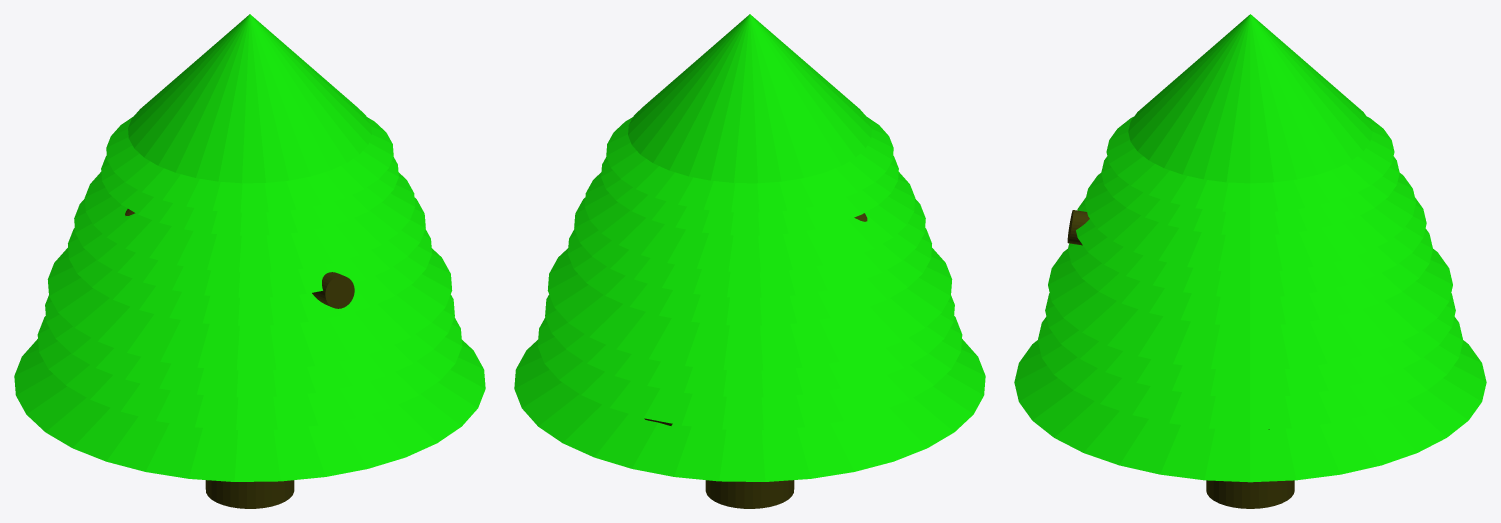
The model's file is tree.glb.
The picture shows the model from 3 angles, left to right: view 1: azimuth 30°, elevation 25°; view 2: azimuth 150°, elevation 25°; view 3: azimuth 270°, elevation 25°; orthographic projection.
Visible parts, largest first — view 1: Cone.009, Cone, Cone.006, Cone.008, Cone.003, Cone.007, Cone.005, Cone.001, Cone.004, Cone.002, Cylinder, Cylinder.001; view 2: Cone.009, Cone, Cone.006, Cone.008, Cone.003, Cone.007, Cone.005, Cone.001, Cone.004, Cone.002, Cylinder; view 3: Cone.009, Cone, Cone.006, Cone.008, Cone.003, Cone.007, Cone.005, Cone.001, Cone.004, Cone.002, Cylinder.
Part boxes in pixels (x1,y1,x2,y2): Cone.009: (14, 339, 485, 481); Cone: (128, 14, 371, 183); Cone.006: (47, 248, 452, 370); Cone.008: (37, 316, 462, 429); Cone.003: (84, 172, 415, 272); Cone.007: (45, 294, 454, 397); Cone.005: (68, 228, 431, 325); Cone.001: (106, 116, 393, 212); Cone.004: (74, 198, 425, 297); Cone.002: (101, 155, 398, 235); Cylinder: (205, 480, 294, 508); Cylinder.001: (312, 272, 354, 308); Cone.009: (514, 339, 985, 481); Cone: (628, 14, 871, 183); Cone.006: (547, 248, 952, 370); Cone.008: (537, 316, 962, 429); Cone.003: (584, 172, 915, 272); Cone.007: (545, 294, 954, 397); Cone.005: (568, 228, 931, 325); Cone.001: (606, 116, 893, 212); Cone.004: (574, 198, 925, 297); Cone.002: (601, 155, 898, 235); Cylinder: (705, 480, 794, 508); Cone.009: (1014, 340, 1486, 482); Cone: (1128, 14, 1372, 183); Cone.006: (1048, 249, 1452, 370); Cone.008: (1037, 316, 1463, 430); Cone.003: (1085, 173, 1415, 272); Cone.007: (1045, 293, 1455, 397); Cone.005: (1068, 228, 1432, 325); Cone.001: (1106, 116, 1394, 212); Cone.004: (1076, 197, 1426, 297); Cone.002: (1101, 156, 1399, 235); Cylinder: (1206, 480, 1294, 508).
Bounding box in the file's own units: 17.14 × 19.07 × 17.14.
